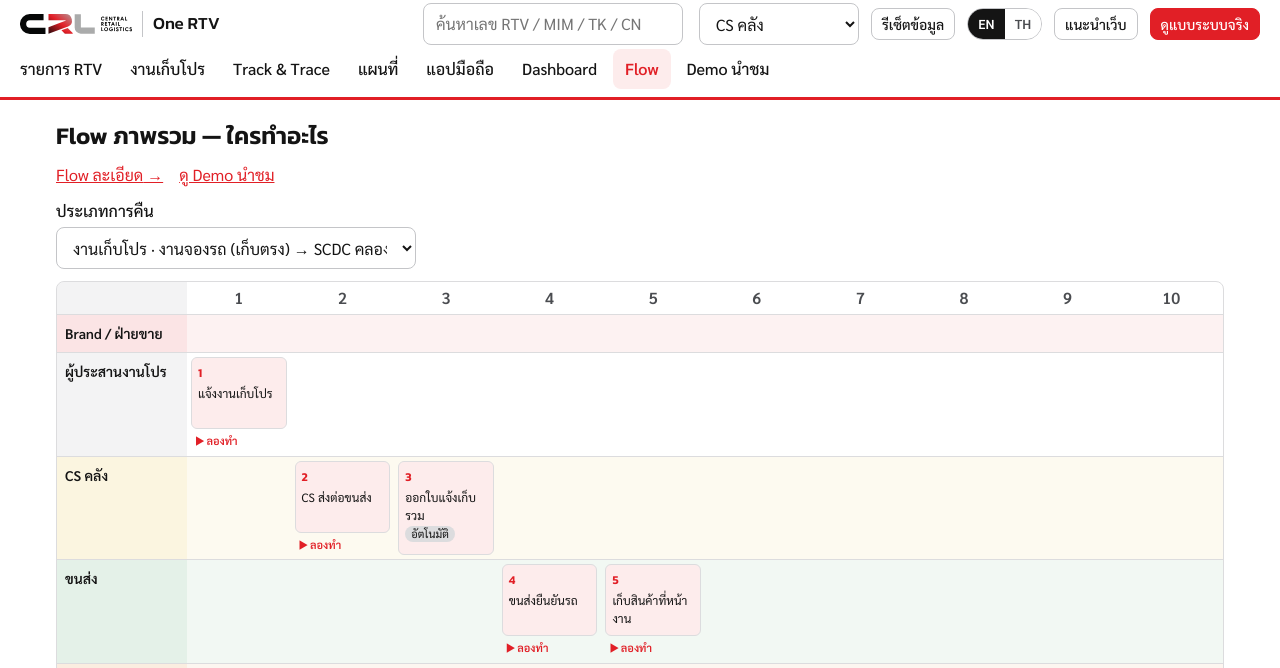
Test: promotion pickup flow: the coordinator lane opens it, the combined slip is automatic, SCDC depends on the brand
Expected: the element with class "lane-PROMO" is shown, top-left (57, 353), bottom-right (1223, 457)
Expected: the text "แจ้งงานเก็บโปร" is shown, top-left (198, 384), bottom-right (273, 402)
Select "งานเก็บโปร · งานจองรถ (เก็บตรง) → CMG กม.20" in the dropdown labelled "ประเภทการคืน" at point(236, 248), box top-left (56, 227), bottom-right (416, 269)
(page scrolled)
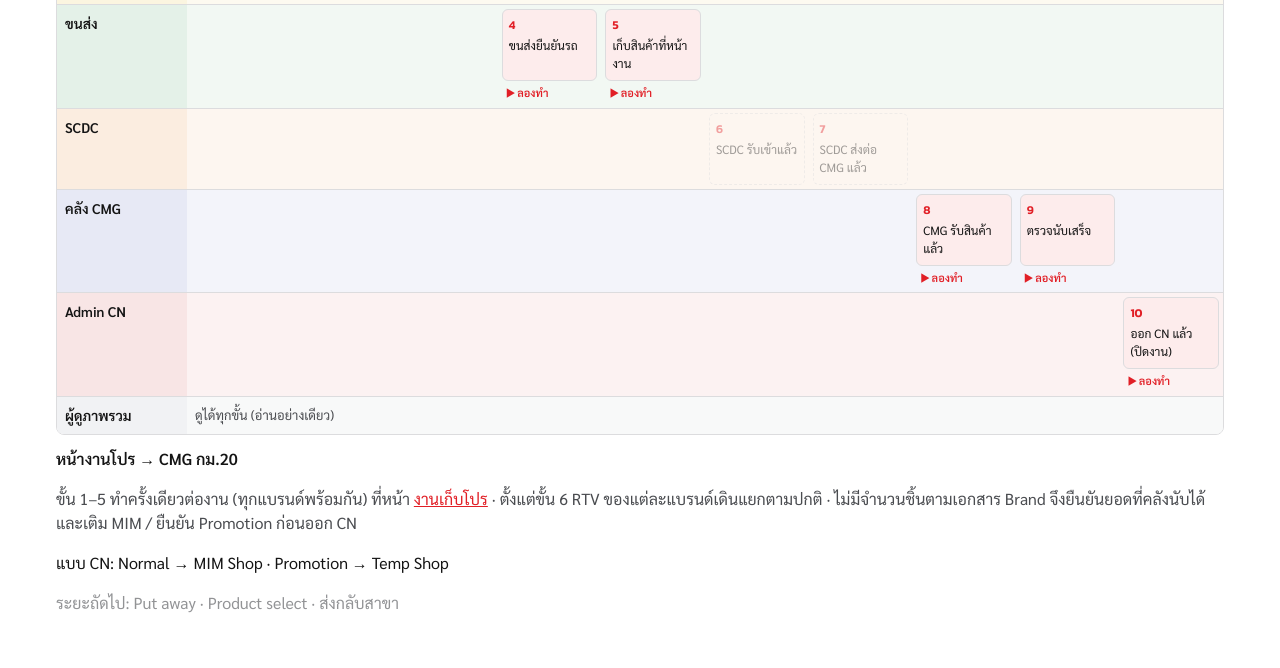
Expected: the text "หน้างานโปร → CMG กม.20" is shown, top-left (56, 448), bottom-right (238, 469)
